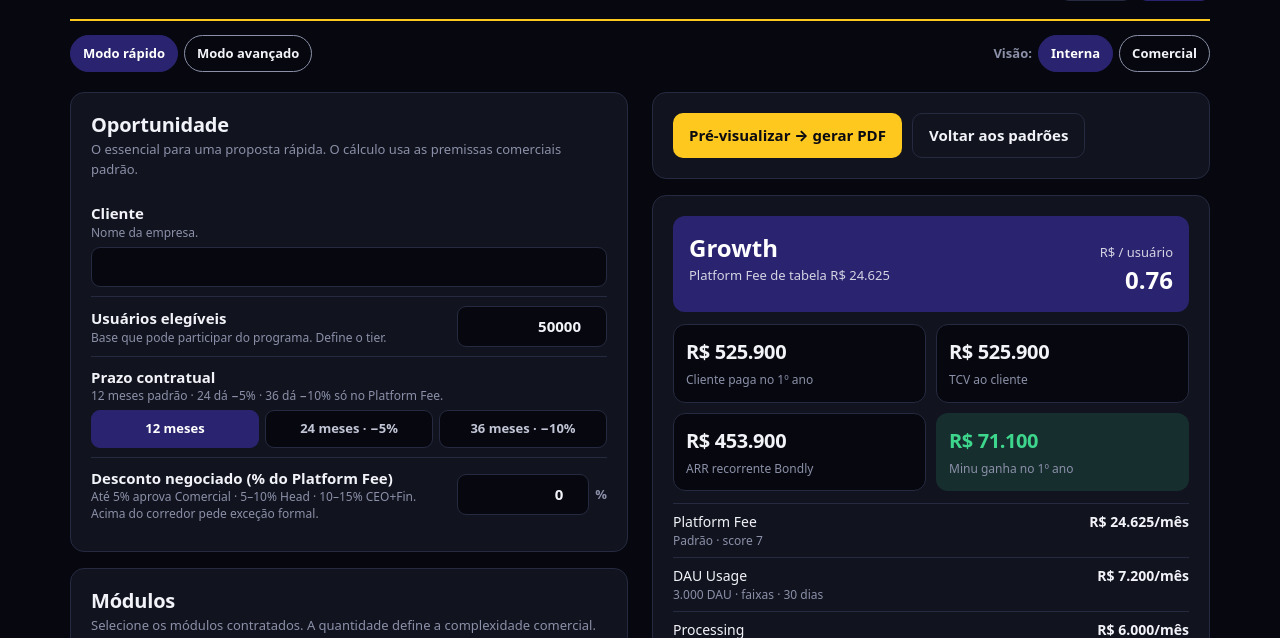
Test: App — ArkaPanel oculto em visão comercial (§12/§16) › visão comercial = modo rápido: esconde os tabs de modo e os painéis de custo interno do avançado
The image size is (1280, 638).
Click the tab "Modo avançado" at point(248, 53), box [184,34,312,72]
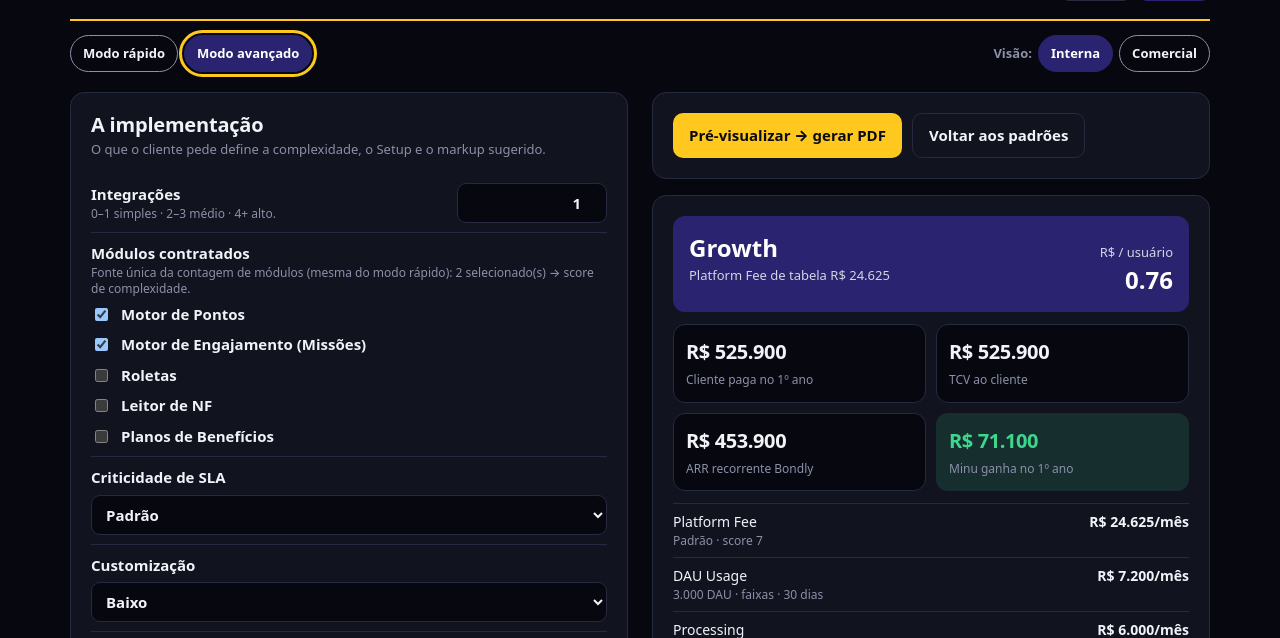
comercial: tabs de modo somem e a view cai para modo rápido
Click the button "Comercial" at point(1165, 53), box [1119,34,1210,72]
(page scrolled)
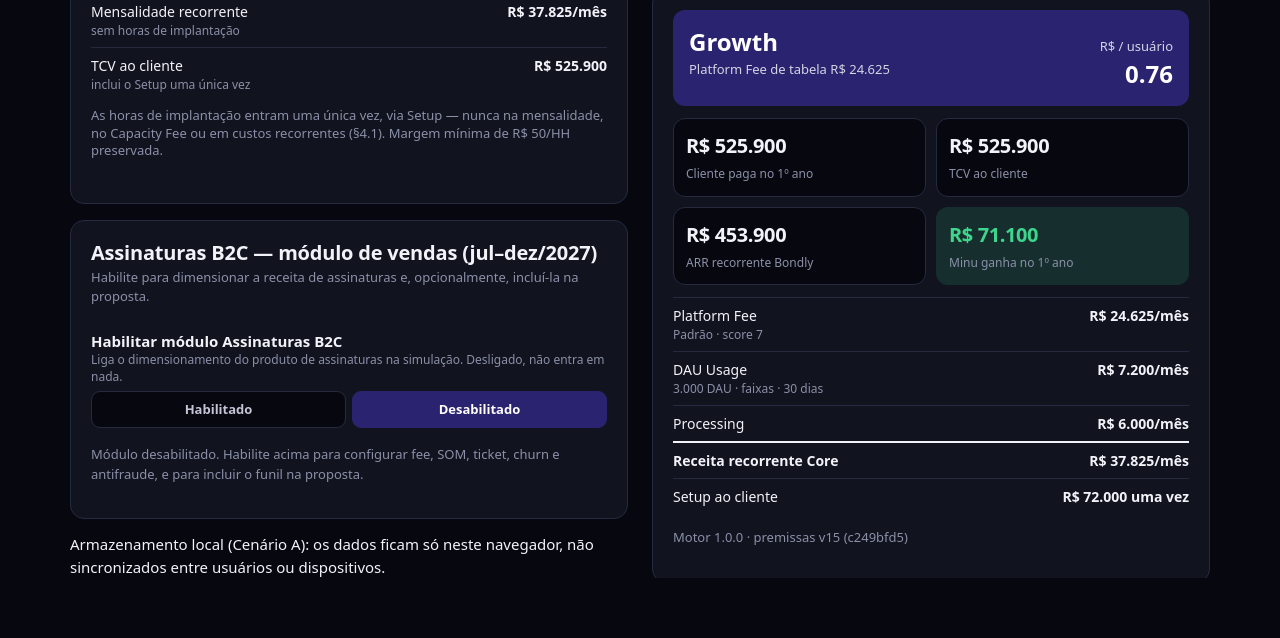
Expected: the text "Habilitar módulo Assinaturas B2C" is shown, [91,331,342,351]
Expected: the tab "Modo avançado" is gone
Expected: the tab "Modo rápido" is gone
